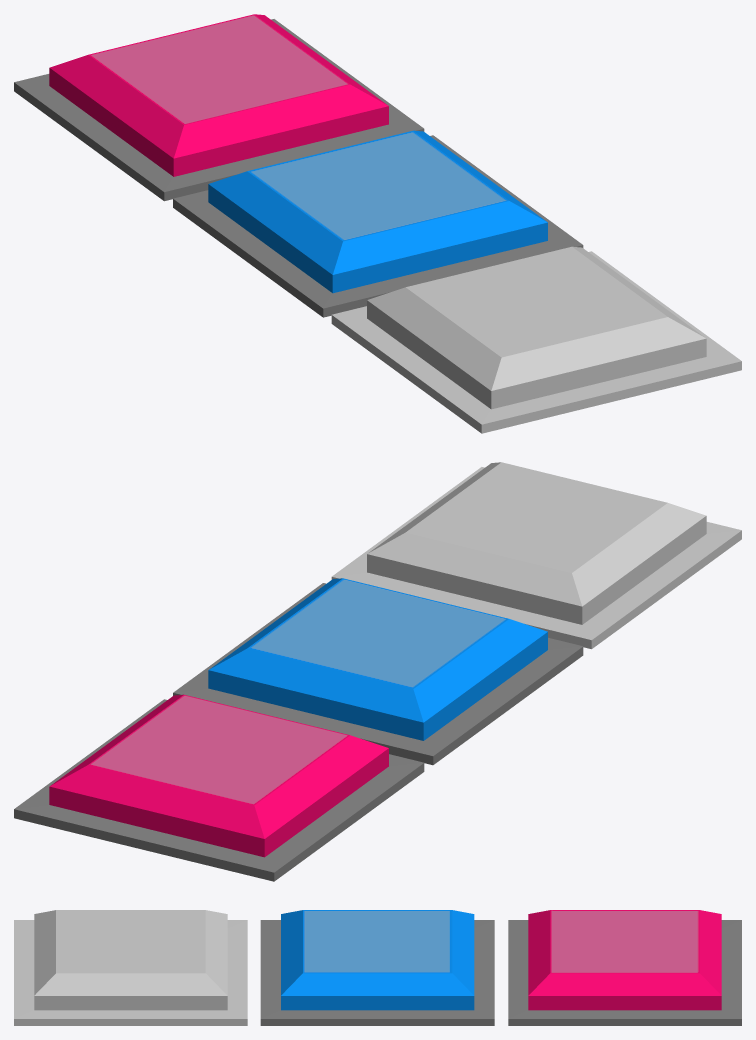
The model's file is tiles.FBX.
The picture shows the model from 3 angles, top to bottom: view 1: azimuth 30°, elevation 25°; view 2: azimuth 150°, elevation 25°; view 3: azimuth 270°, elevation 25°; orthographic projection. The views are drawn at different scales.
Visible parts, largest first — view 1: Box011, Box012, Box010; view 2: Box012, Box010, Box011; view 3: Box010, Box011, Box012.
Boxes of the visible parts, x1,y1,x2,y2 form: Box011: (331, 246, 741, 433); Box012: (14, 14, 424, 201); Box010: (173, 130, 583, 317); Box012: (14, 694, 424, 881); Box010: (173, 578, 583, 765); Box011: (331, 462, 741, 649); Box010: (260, 910, 494, 1025); Box011: (14, 910, 247, 1025); Box012: (508, 910, 741, 1025).
Bounding box in the file's own units: 12.87 × 2.12 × 40.07.
